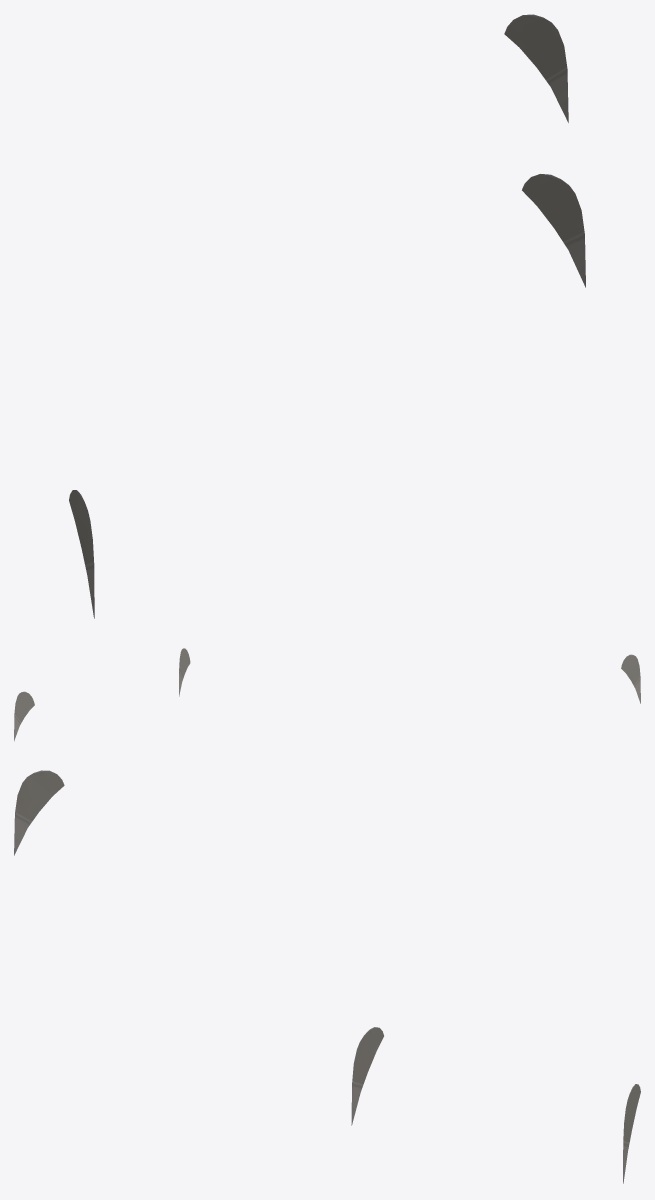
Rendered from pref_sm_4v4beachtech_bk_topblock_L01d_lv1.fbx.
3 views of the same model, one above another, from view 1: azimuth 30°, elevation 25°; view 2: azimuth 150°, elevation 25°; view 3: azimuth 270°, elevation 25° (orthographic). The views are drawn at different scales.
Visible parts, largest first — view 1: pref_sm_4v4beachtech_bk_topblock_L01d_lv1; view 2: pref_sm_4v4beachtech_bk_topblock_L01d_lv1; view 3: pref_sm_4v4beachtech_bk_topblock_L01d_lv1.
Boxes of the visible parts, x1=… form: pref_sm_4v4beachtech_bk_topblock_L01d_lv1: x1=69, y1=14, x2=585, y2=618; pref_sm_4v4beachtech_bk_topblock_L01d_lv1: x1=14, y1=648, x2=640, y2=741; pref_sm_4v4beachtech_bk_topblock_L01d_lv1: x1=14, y1=770, x2=640, y2=1183.
Bounding box in the file's own units: 28.04 × 3.46 × 22.55.
